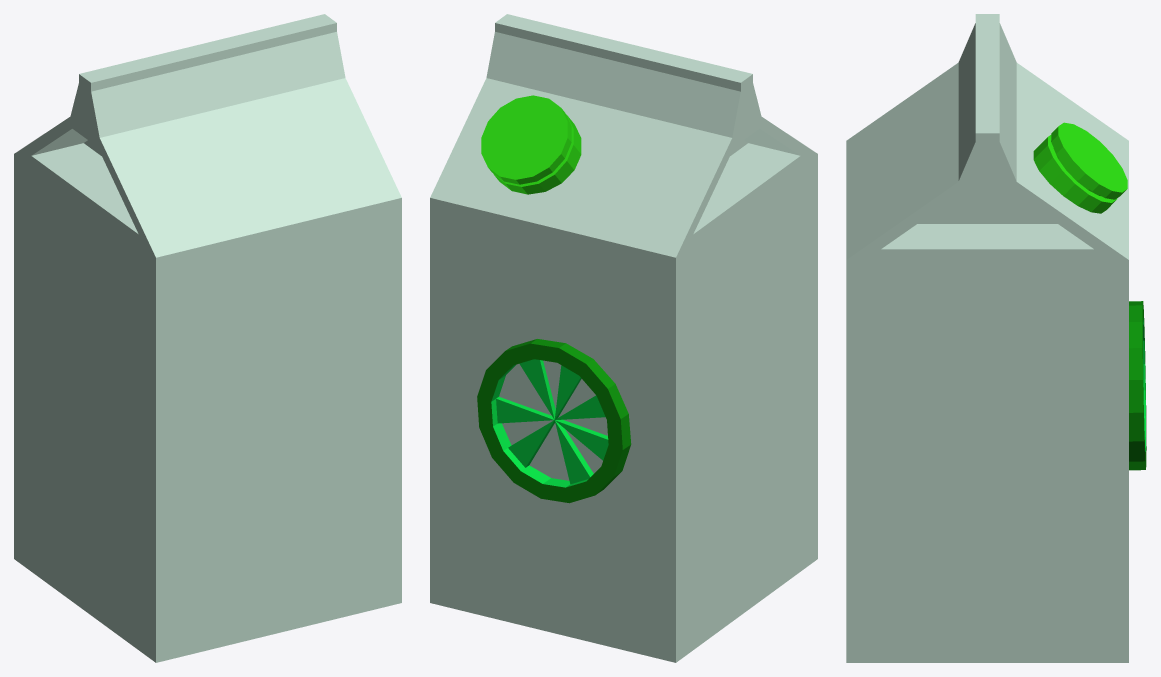
File: jugo.glb
3 renders of one model, left to right at view 1: azimuth 30°, elevation 25°; view 2: azimuth 150°, elevation 25°; view 3: azimuth 270°, elevation 25°, orthographic.
Parts seen in each view (by area): view 1: Cube; view 2: Cube, Cilindro.001, Cilindro; view 3: Cube, Cilindro, Cilindro.001.
Boxes of the visible parts, bbox=[...] form: Cube: bbox=[14, 14, 401, 662]; Cube: bbox=[430, 14, 817, 662]; Cilindro.001: bbox=[477, 339, 631, 503]; Cilindro: bbox=[481, 95, 581, 194]; Cube: bbox=[846, 14, 1128, 662]; Cilindro: bbox=[1033, 122, 1127, 213]; Cilindro.001: bbox=[1129, 301, 1146, 470].
Size of the model in its own units: 2 by 4.14 by 2.13.
